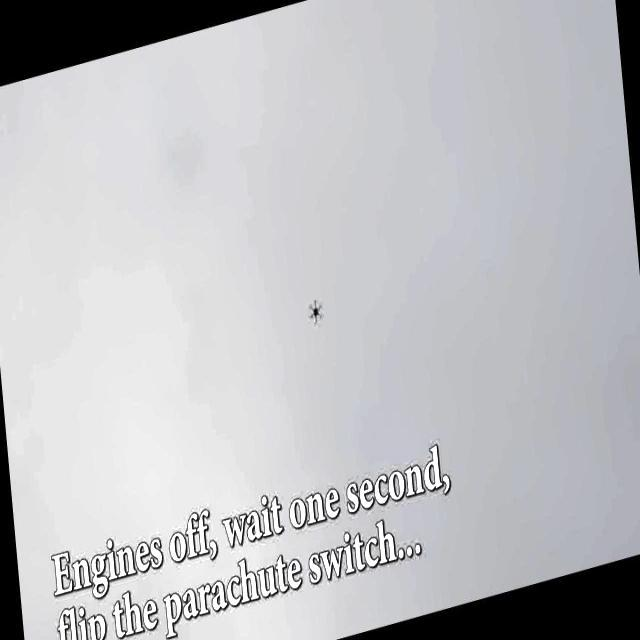drone: (304, 292, 326, 332)
